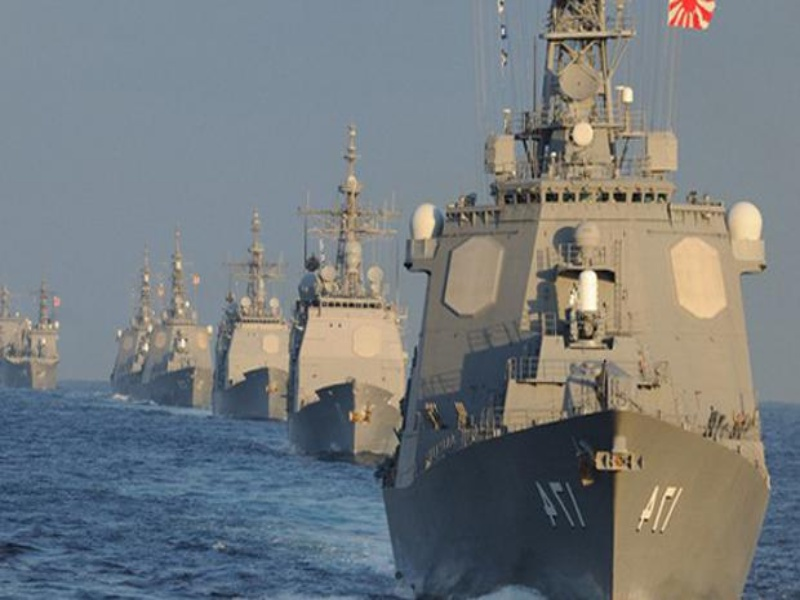cruise: (430, 30, 772, 600), (289, 126, 405, 463), (218, 211, 293, 423), (151, 242, 217, 412), (2, 284, 71, 395), (105, 259, 157, 405)
